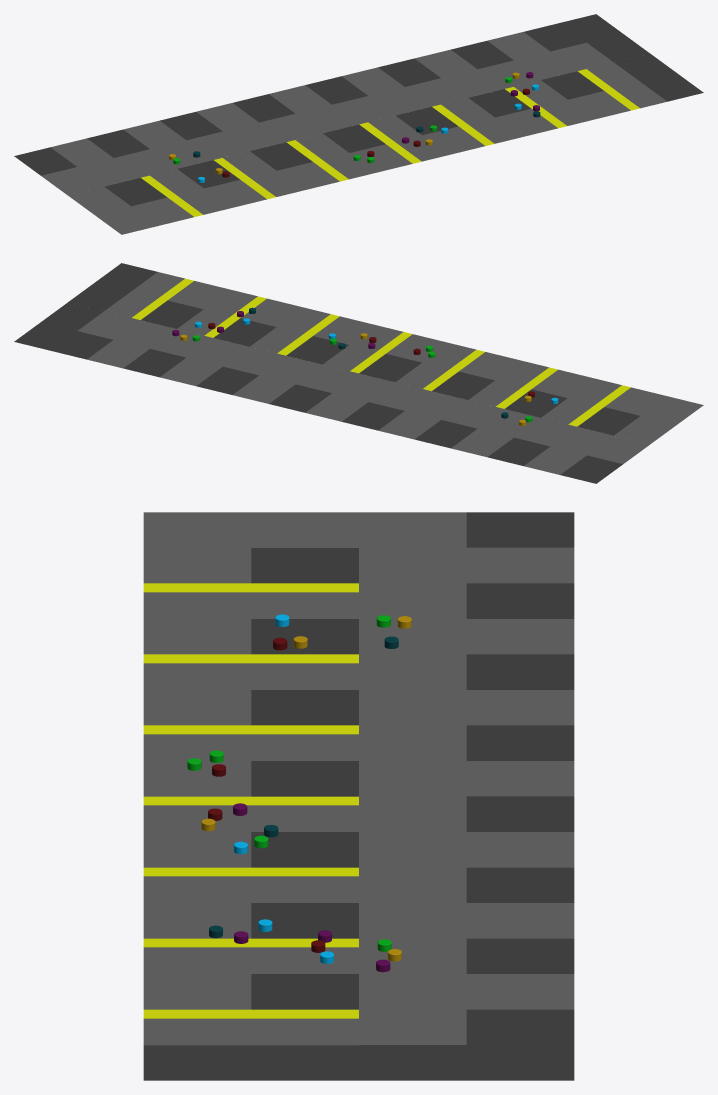
File: seatRound.obj
The picture shows the model from 3 angles, top to bottom: view 1: azimuth 30°, elevation 25°; view 2: azimuth 150°, elevation 25°; view 3: azimuth 270°, elevation 25°; orthographic projection. The views are drawn at different scales.
Visible parts, largest first — view 1: Cube.031; view 2: Cube.031; view 3: Cube.031.
Part boxes in pixels (<box>): Cube.031: <box>14,14,703,234</box>; Cube.031: <box>14,263,703,483</box>; Cube.031: <box>143,512,574,1080</box>.
Size of the model in its own units: 109 by 0.6193 by 35.
9 materials, 9 textured.
